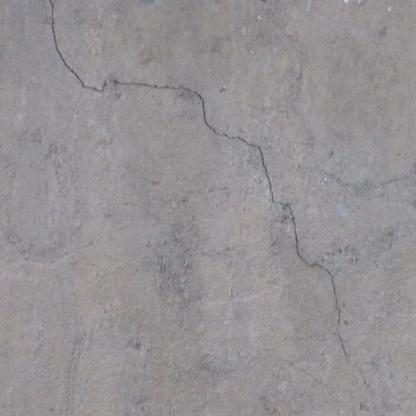Cracks: (35, 0, 356, 369), (357, 367, 379, 407)
